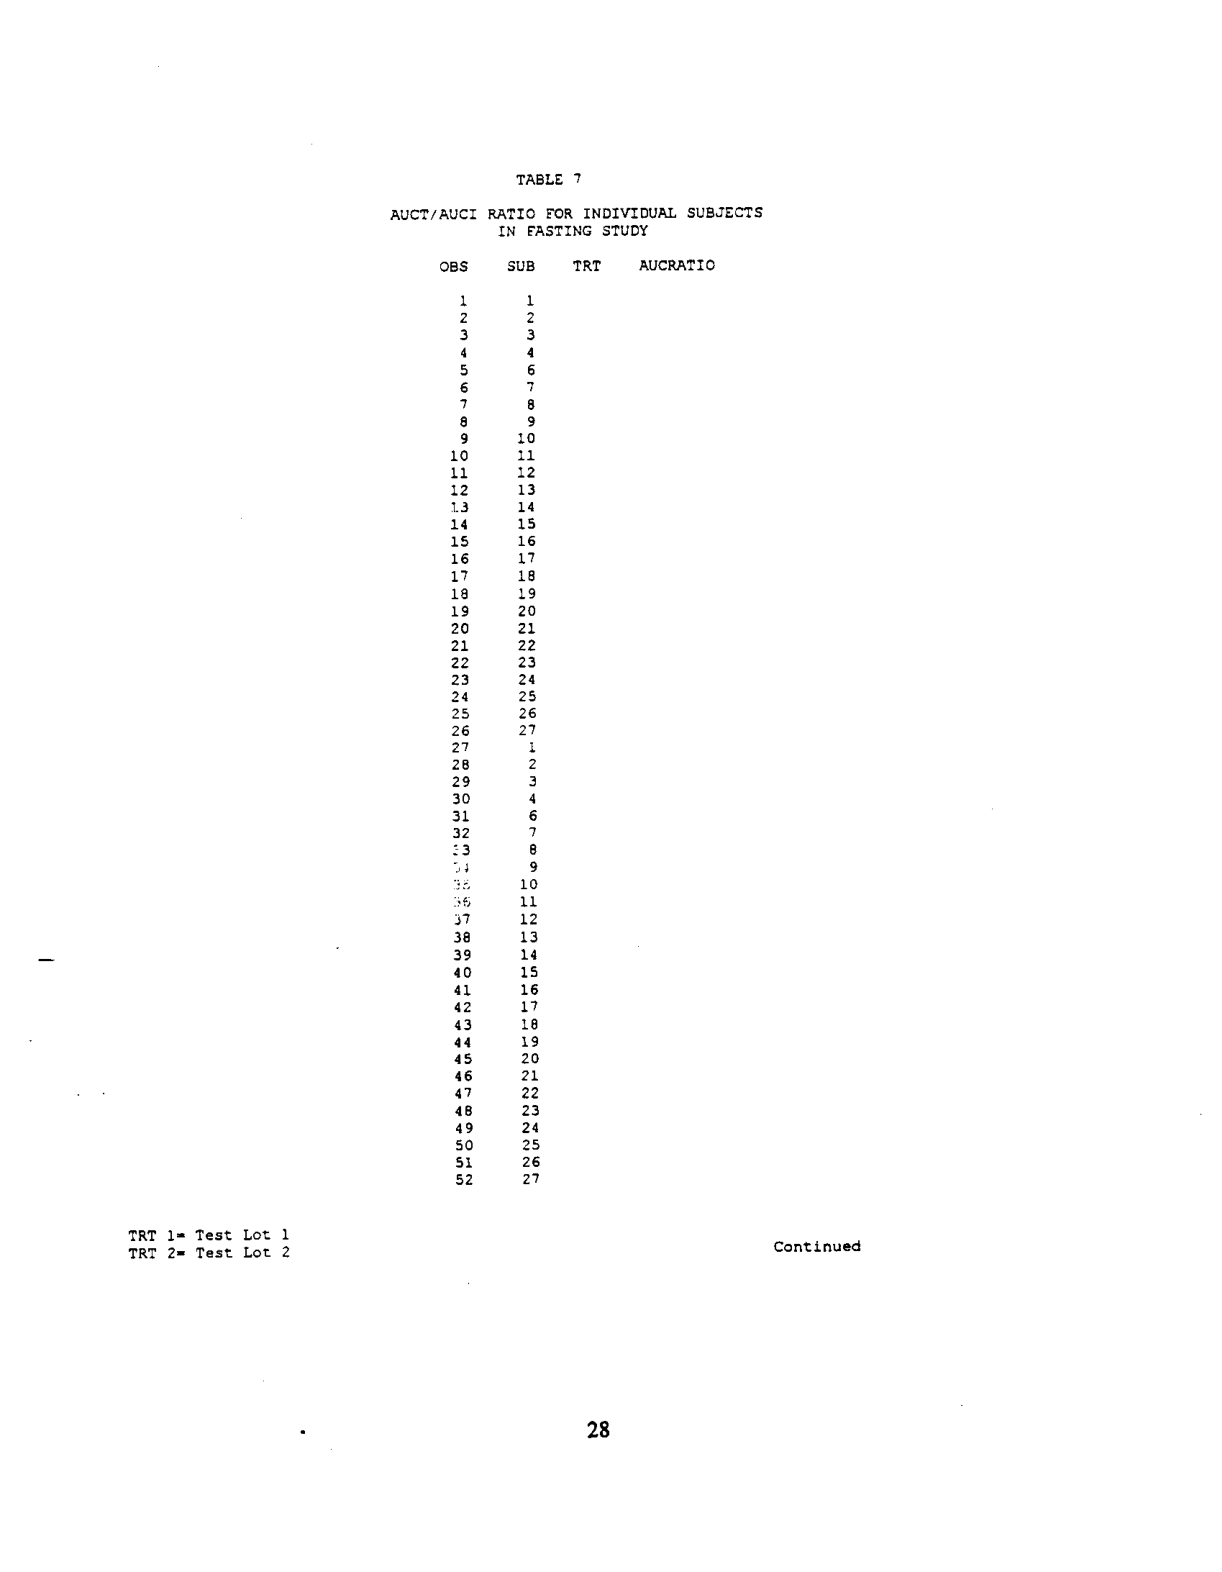nolines: (386, 202, 768, 1187)
